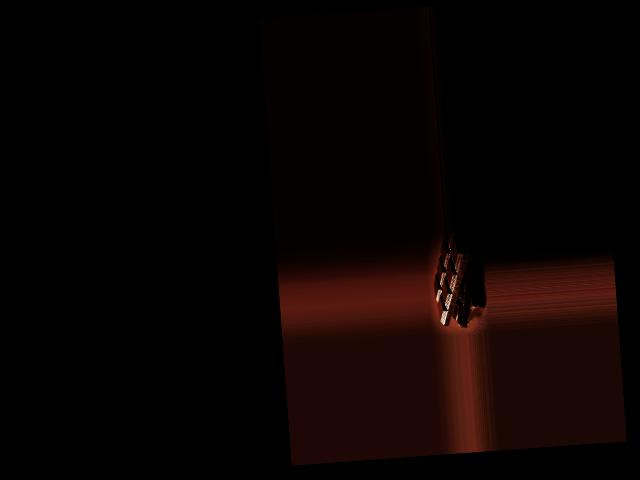chocolate: (430, 232, 480, 329)
